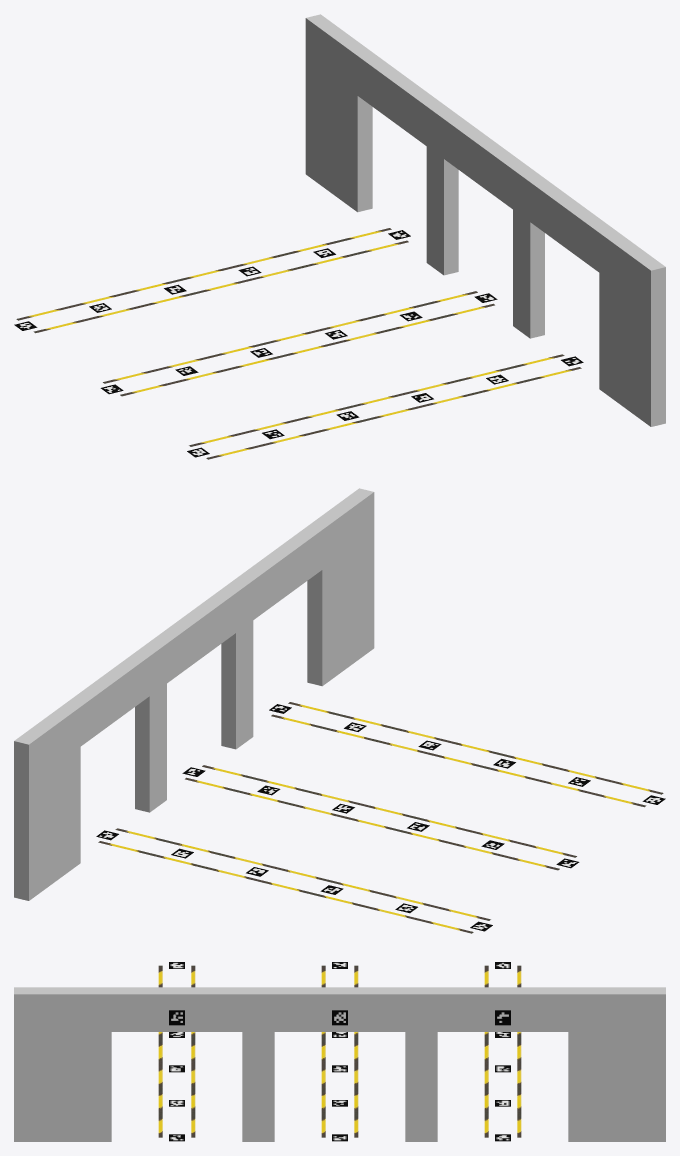
3 views of the same model, one above another, from view 1: azimuth 30°, elevation 25°; view 2: azimuth 150°, elevation 25°; view 3: azimuth 270°, elevation 25° (orthographic). The views are drawn at different scales.
Visible parts, largest first — view 1: Cube, Screenshot from 2020-09-12 11-19-54.004, Screenshot from 2020-09-12 11-19-54.002, Screenshot from 2020-09-12 11-19-54.001, Screenshot from 2020-09-12 11-19-54.005, Screenshot from 2020-09-12 11-19-54.003, Screenshot from 2020-09-12 11-19-54; view 2: Cube, Screenshot from 2020-09-12 11-19-54.005, Screenshot from 2020-09-12 11-19-54.003, Screenshot from 2020-09-12 11-19-54, Screenshot from 2020-09-12 11-19-54.002, Screenshot from 2020-09-12 11-19-54.004, Screenshot from 2020-09-12 11-19-54.001; view 3: Cube, Screenshot from 2020-09-12 11-19-54.005, Screenshot from 2020-09-12 11-19-54.004, Screenshot from 2020-09-12 11-19-54.003, Screenshot from 2020-09-12 11-19-54.002, Screenshot from 2020-09-12 11-19-54.001, Screenshot from 2020-09-12 11-19-54.
Boxes of the visible parts, x1,y1,x2,y2 form: Cube: (305,14,665,426); Screenshot from 2020-09-12 11-19-54.004: (33,240,408,333); Screenshot from 2020-09-12 11-19-54.002: (206,367,581,459); Screenshot from 2020-09-12 11-19-54.001: (120,303,494,396); Screenshot from 2020-09-12 11-19-54.005: (16,228,391,320); Screenshot from 2020-09-12 11-19-54.003: (189,354,564,446); Screenshot from 2020-09-12 11-19-54: (103,291,477,383); Cube: (14,488,374,900); Screenshot from 2020-09-12 11-19-54.005: (98,841,473,933); Screenshot from 2020-09-12 11-19-54.003: (271,714,646,807); Screenshot from 2020-09-12 11-19-54: (185,777,559,870); Screenshot from 2020-09-12 11-19-54.002: (288,702,663,794); Screenshot from 2020-09-12 11-19-54.004: (115,828,490,920); Screenshot from 2020-09-12 11-19-54.001: (202,765,576,857); Cube: (14,987,665,1141); Screenshot from 2020-09-12 11-19-54.005: (517,965,521,1137); Screenshot from 2020-09-12 11-19-54.004: (484,965,488,1137); Screenshot from 2020-09-12 11-19-54.003: (191,965,195,1137); Screenshot from 2020-09-12 11-19-54.002: (158,965,162,1137); Screenshot from 2020-09-12 11-19-54.001: (321,965,325,1137); Screenshot from 2020-09-12 11-19-54: (354,965,358,1137).
Size of the model in its own units: 5.22 by 8 by 2.
Materials: 23 (22 with a texture image).
